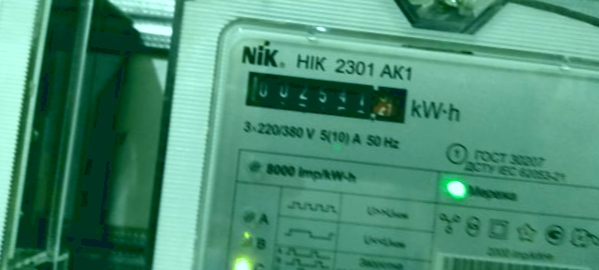0: (253, 76, 269, 98), (274, 76, 289, 99)
1: (353, 87, 366, 108)
2: (294, 80, 309, 101)
4: (334, 83, 348, 106)
5: (313, 81, 328, 104)
6: (374, 101, 387, 118)
screen: (231, 58, 418, 134)
